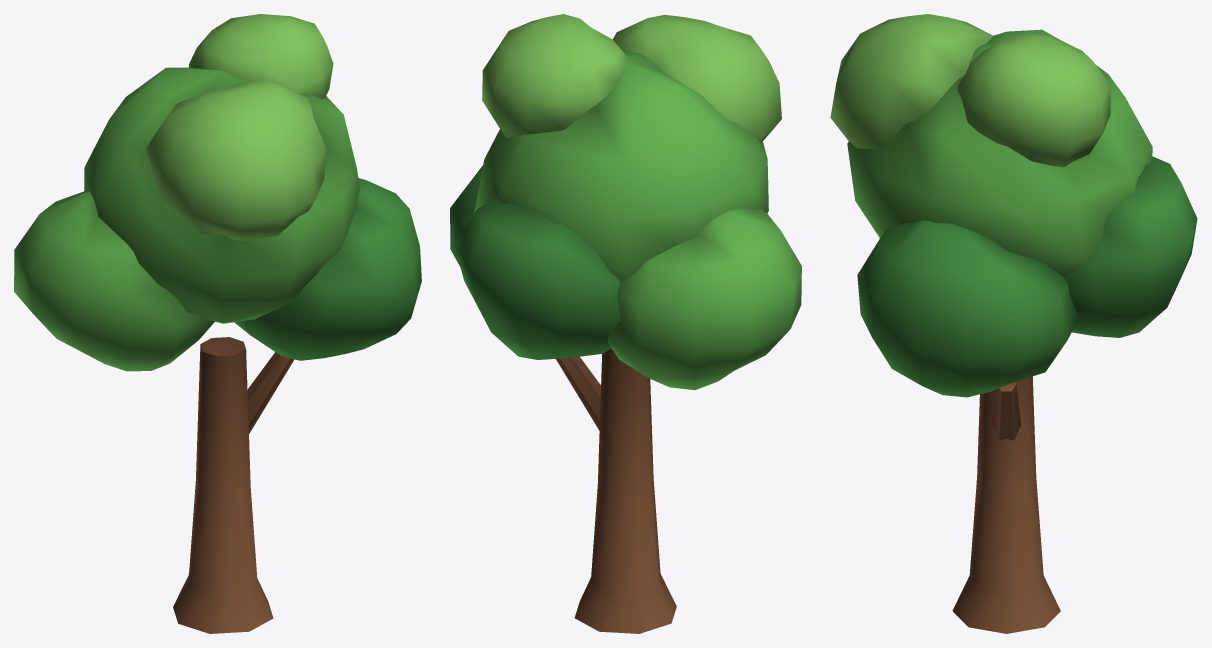
The model's file is tree_round.glb.
3 renders of one model, left to right at view 1: azimuth 30°, elevation 25°; view 2: azimuth 150°, elevation 25°; view 3: azimuth 270°, elevation 25°, orthographic. The views are drawn at different scales.
Parts seen in each view (by area): view 1: Tree; view 2: Tree; view 3: Tree.
Part boxes in pixels (left/top/right/bottom): Tree: left=14, top=14, right=421, bottom=633; Tree: left=450, top=14, right=801, bottom=633; Tree: left=830, top=14, right=1197, bottom=633.
Size of the model in its own units: 0.8502 by 1.33 by 0.7441.
Materials: 1 (1 with a texture image).
